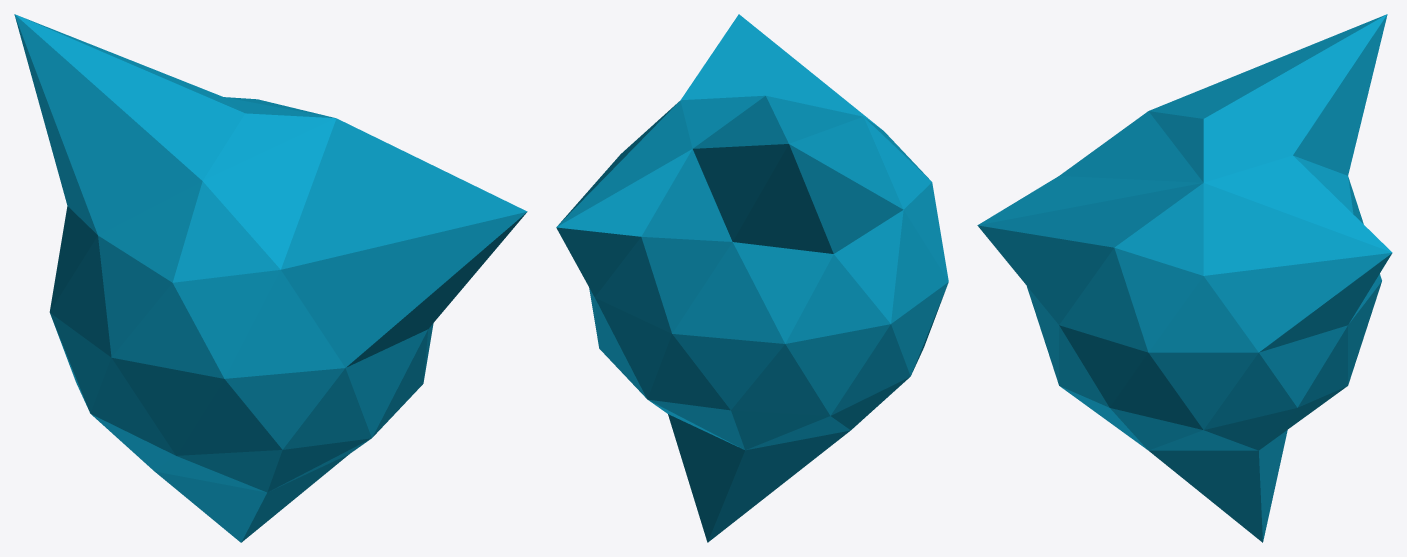
File: nol.obj
The picture shows the model from 3 angles, left to right: view 1: azimuth 30°, elevation 25°; view 2: azimuth 150°, elevation 25°; view 3: azimuth 270°, elevation 25°; orthographic projection. The views are drawn at different scales.
Visible parts, largest first — view 1: Icosphere; view 2: Icosphere; view 3: Icosphere.
Boxes of the visible parts, box(x1,y1,x2,y2) form: Icosphere: box(14, 14, 527, 542); Icosphere: box(556, 14, 948, 542); Icosphere: box(977, 14, 1392, 542).
Bounding box in the file's own units: 1.9 × 2.85 × 2.33.
